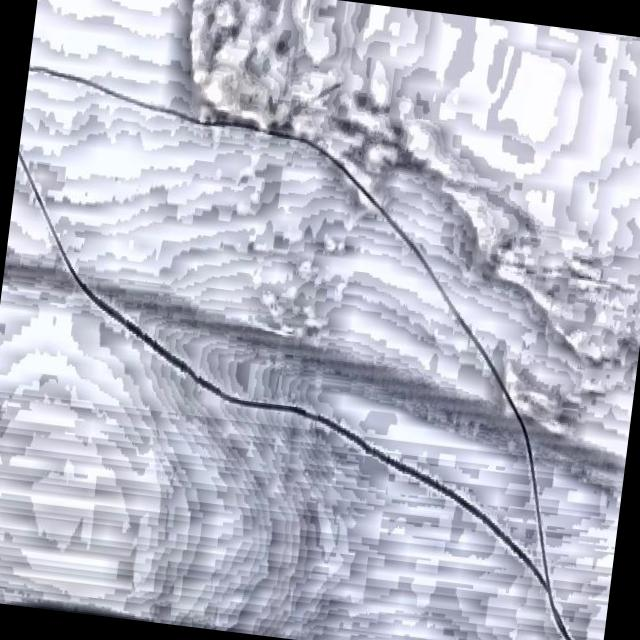crack: (61, 1, 553, 386), (77, 266, 532, 570)
